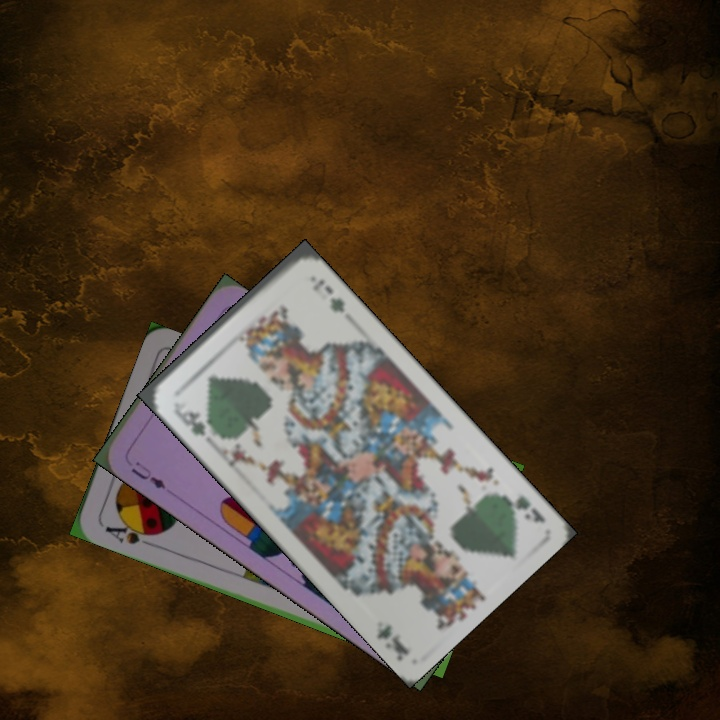EU: (127, 457, 169, 492)
GK: (495, 490, 548, 526), (171, 400, 208, 439)
SA: (101, 516, 159, 549)
